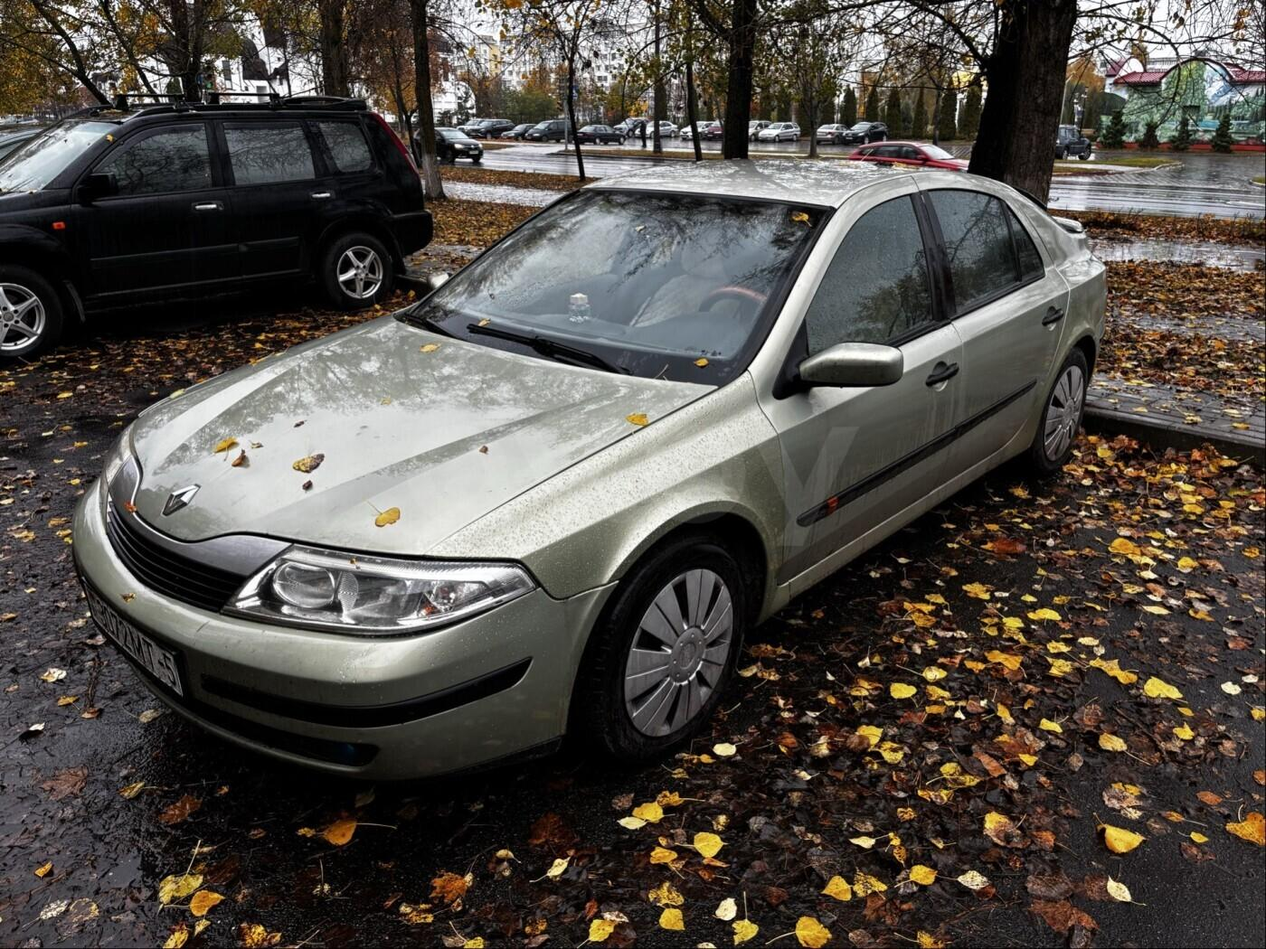Laguna_2001-2005: (72, 163, 1104, 777)
